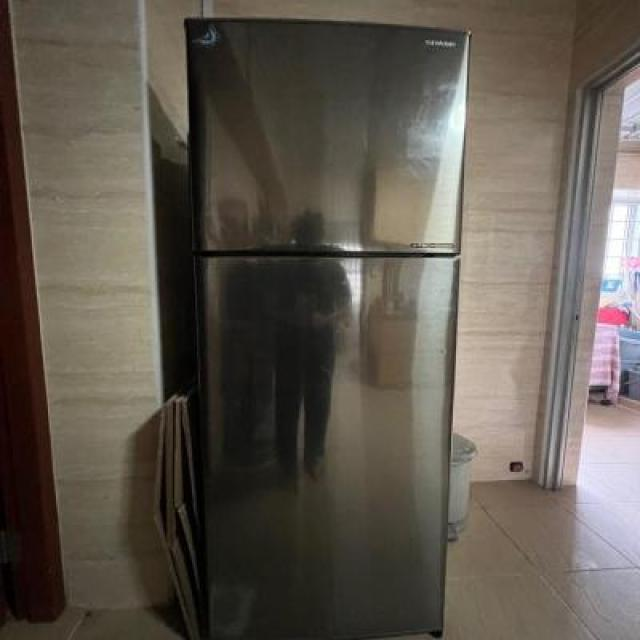refrigerator: (182, 14, 472, 638)
